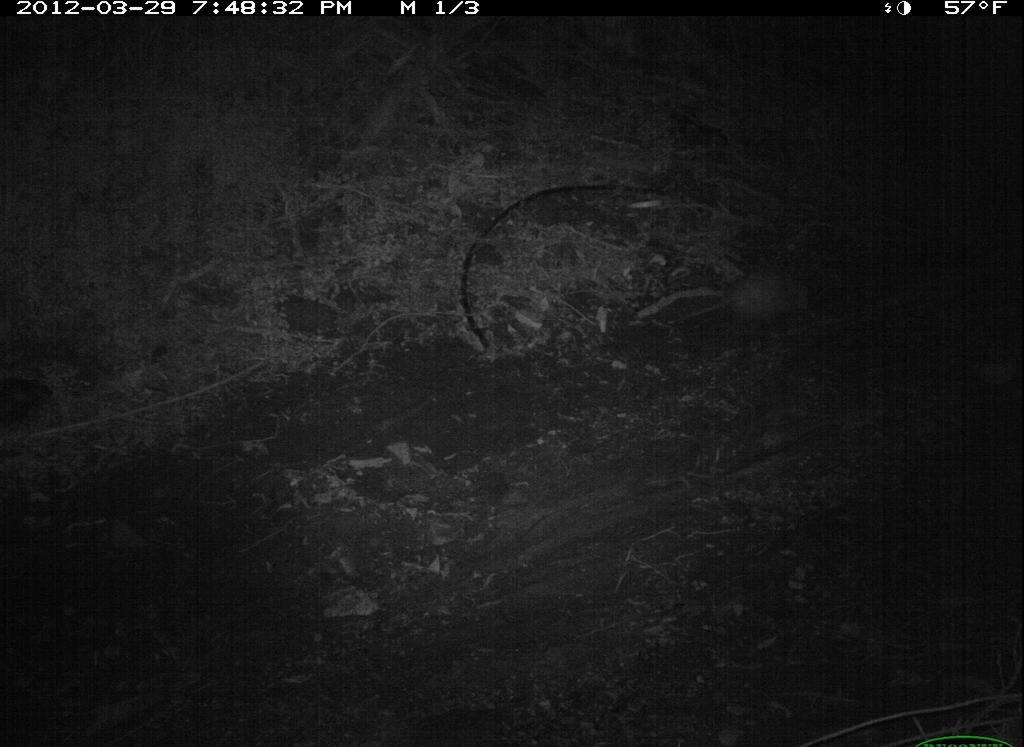opossum: (660, 253, 830, 351)
